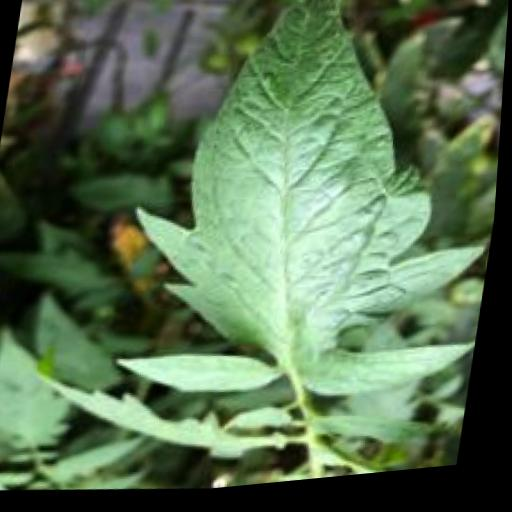Healthy: (107, 0, 512, 429)
